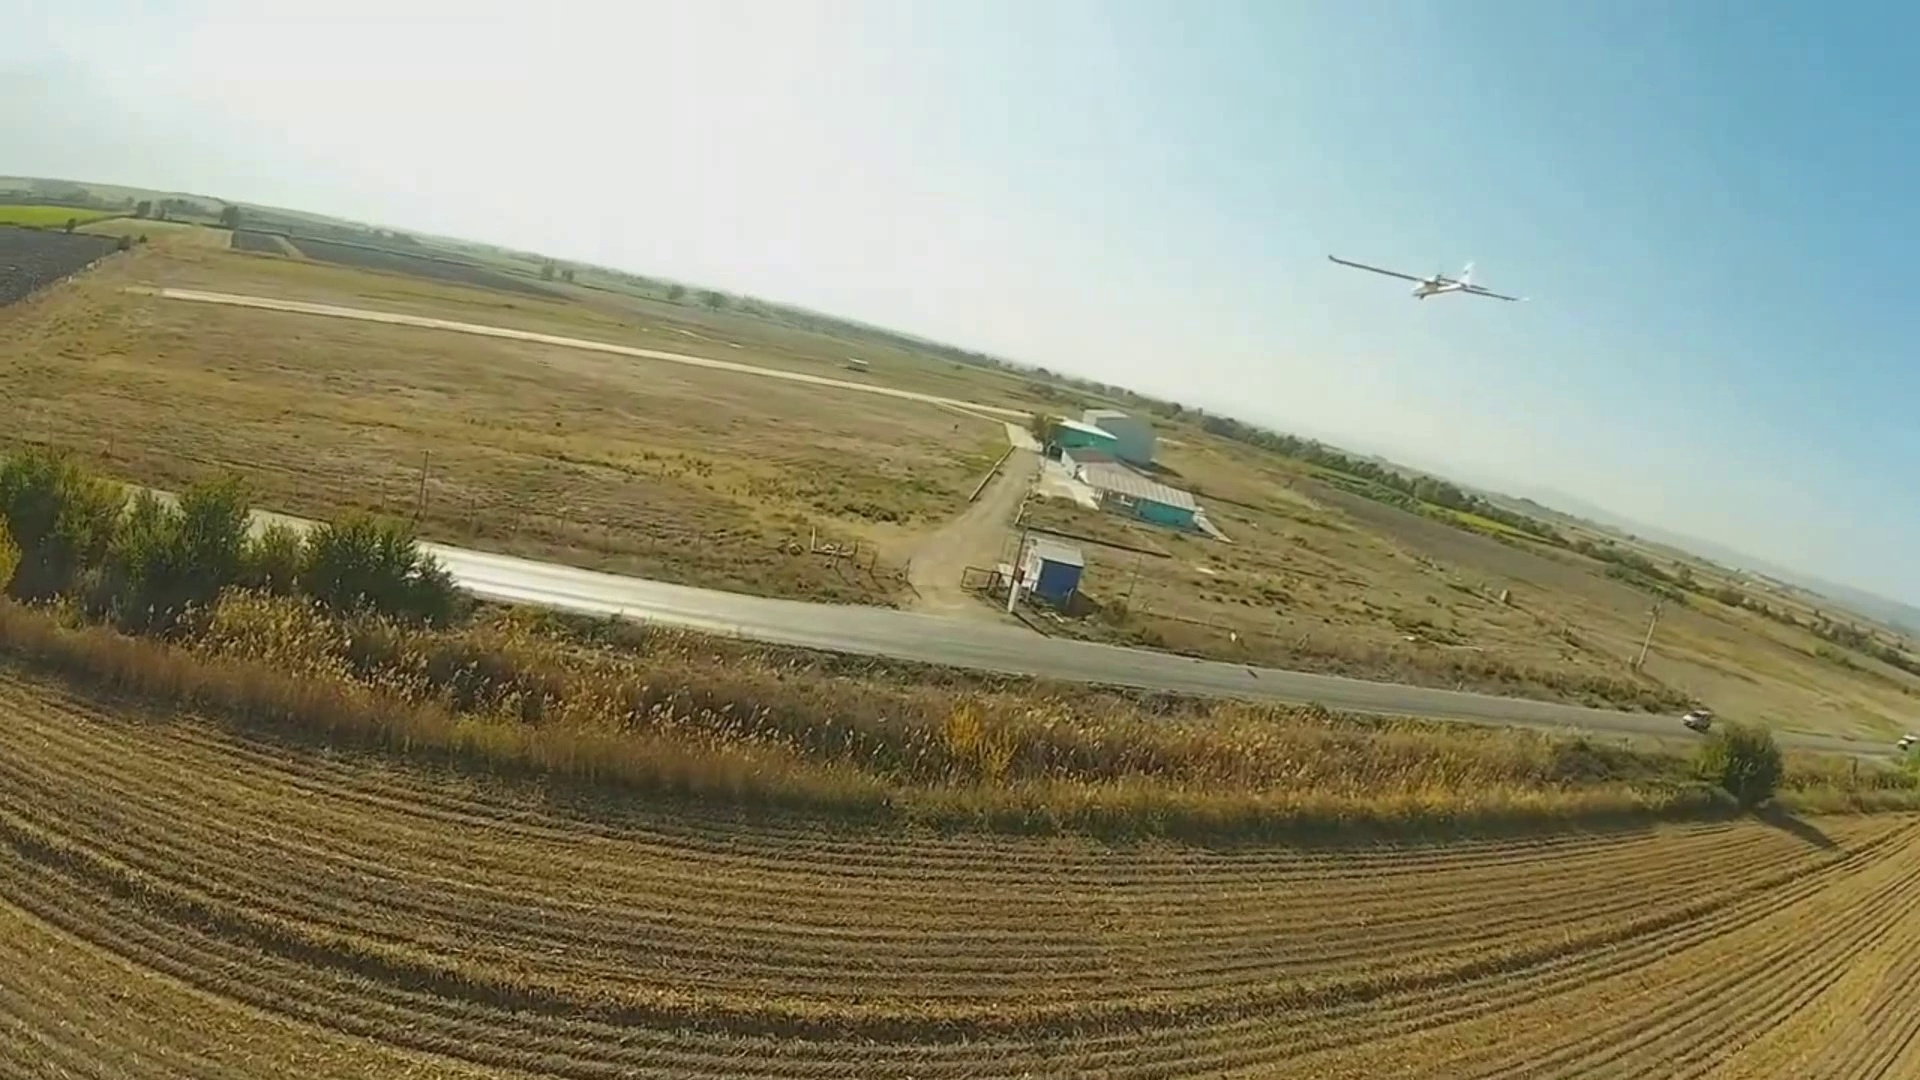airplane: (1325, 249, 1524, 305), (1382, 258, 1524, 303)
